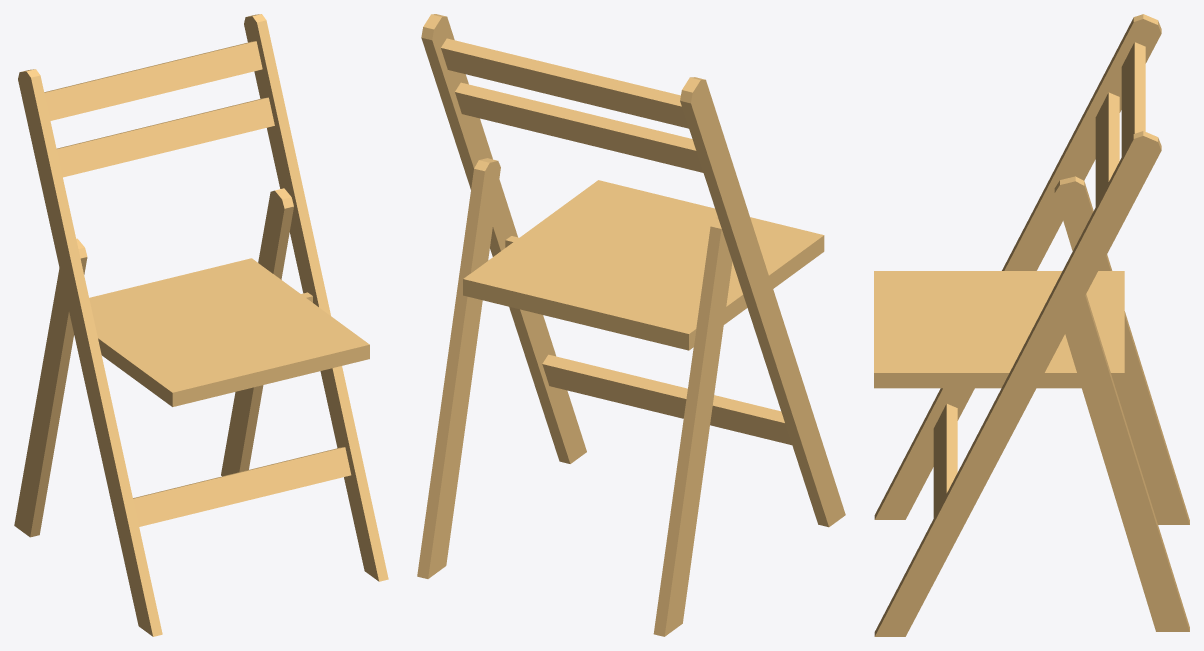
File: Chair_04.fbx
The picture shows the model from 3 angles, left to right: view 1: azimuth 30°, elevation 25°; view 2: azimuth 150°, elevation 25°; view 3: azimuth 270°, elevation 25°; orthographic projection. The views are drawn at different scales.
Visible parts, largest first — view 1: Chair_04; view 2: Chair_04; view 3: Chair_04.
Part boxes in pixels (box(x1,y1,x2,y2)): Chair_04: box(14, 14, 388, 636); Chair_04: box(417, 14, 845, 636); Chair_04: box(874, 14, 1189, 636).
Bounding box in the file's own units: 51.99 × 99.71 × 56.93.
